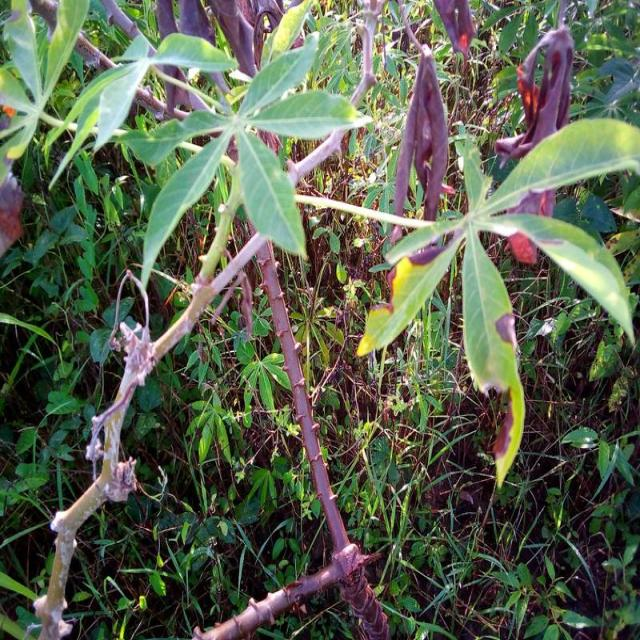cassava leaf: (235, 126, 308, 261)
